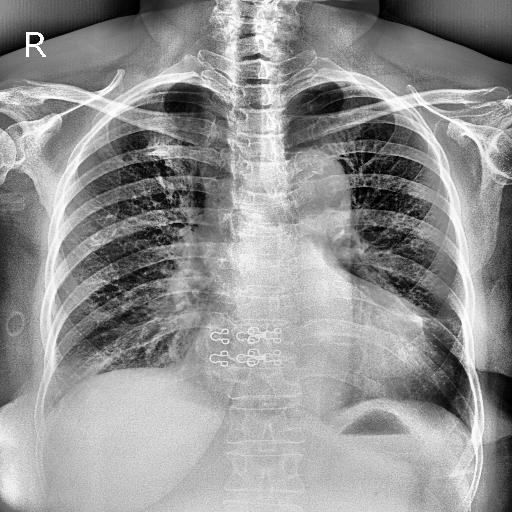0- Aortic enlargement: (271, 147, 354, 252), (276, 147, 354, 231), (275, 150, 349, 216)
3- Cardiomegaly: (178, 303, 454, 402), (180, 328, 455, 408), (182, 330, 453, 403)
